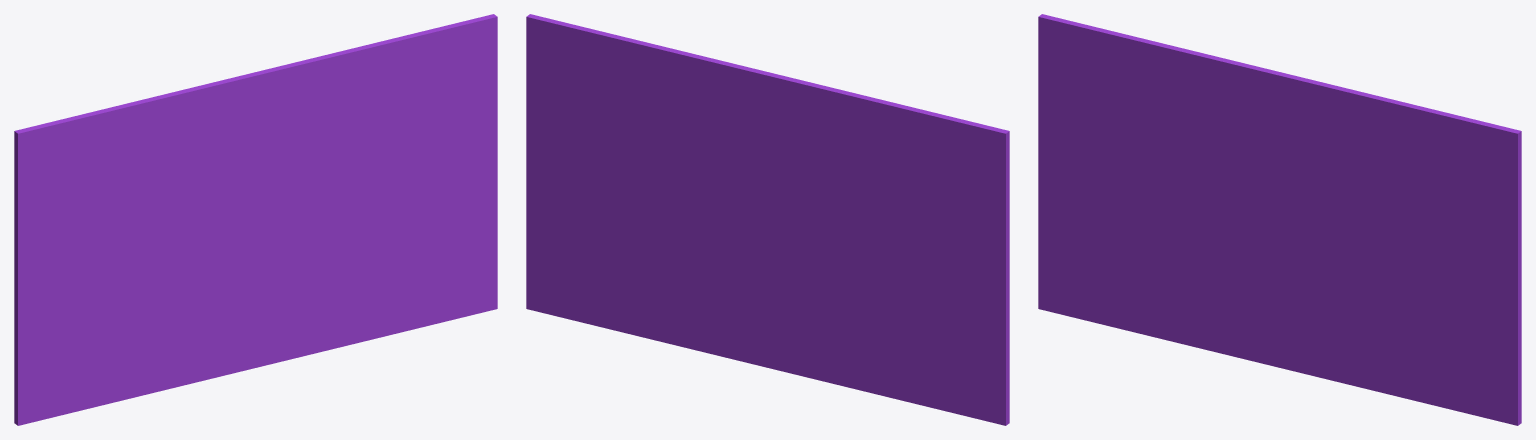
File: Glass_8_chunks.fbx
3 views of the same model, side by side, from view 1: azimuth 30°, elevation 25°; view 2: azimuth 150°, elevation 25°; view 3: azimuth 330°, elevation 25° (orthographic).
Parts seen in each view (by area): view 1: Glass_8_1, Glass_8_0, Glass_8_6, Glass_8_3, Glass_8_4; view 2: Glass_8_1, Glass_8_0, Glass_8_6, Glass_8_3, Glass_8_4, Glass_8_2; view 3: Glass_8_1, Glass_8_0, Glass_8_6, Glass_8_3, Glass_8_4.
Boxes of the visible parts, left/top/right/bottom form: Glass_8_1: left=257, top=14, right=497, bottom=361; Glass_8_0: left=14, top=195, right=280, bottom=425; Glass_8_6: left=14, top=83, right=210, bottom=209; Glass_8_3: left=206, top=35, right=413, bottom=180; Glass_8_4: left=118, top=145, right=291, bottom=222; Glass_8_1: left=526, top=14, right=764, bottom=361; Glass_8_0: left=742, top=197, right=1009, bottom=425; Glass_8_6: left=810, top=84, right=1009, bottom=207; Glass_8_3: left=612, top=34, right=815, bottom=176; Glass_8_4: left=736, top=147, right=901, bottom=219; Glass_8_2: left=606, top=36, right=772, bottom=225; Glass_8_1: left=1277, top=111, right=1521, bottom=425; Glass_8_0: left=1038, top=83, right=1300, bottom=372; Glass_8_6: left=1038, top=14, right=1236, bottom=140; Glass_8_3: left=1226, top=61, right=1435, bottom=197; Glass_8_4: left=1138, top=119, right=1311, bottom=221.
Bounding box in the file's own units: 1966 × 1144 × 27.2.
